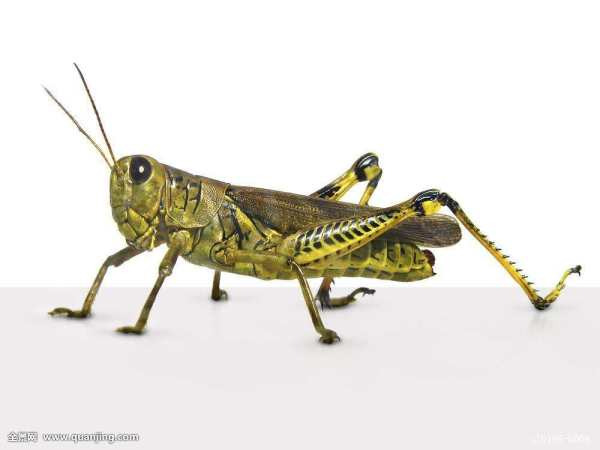huangchong: (76, 131, 556, 357)
